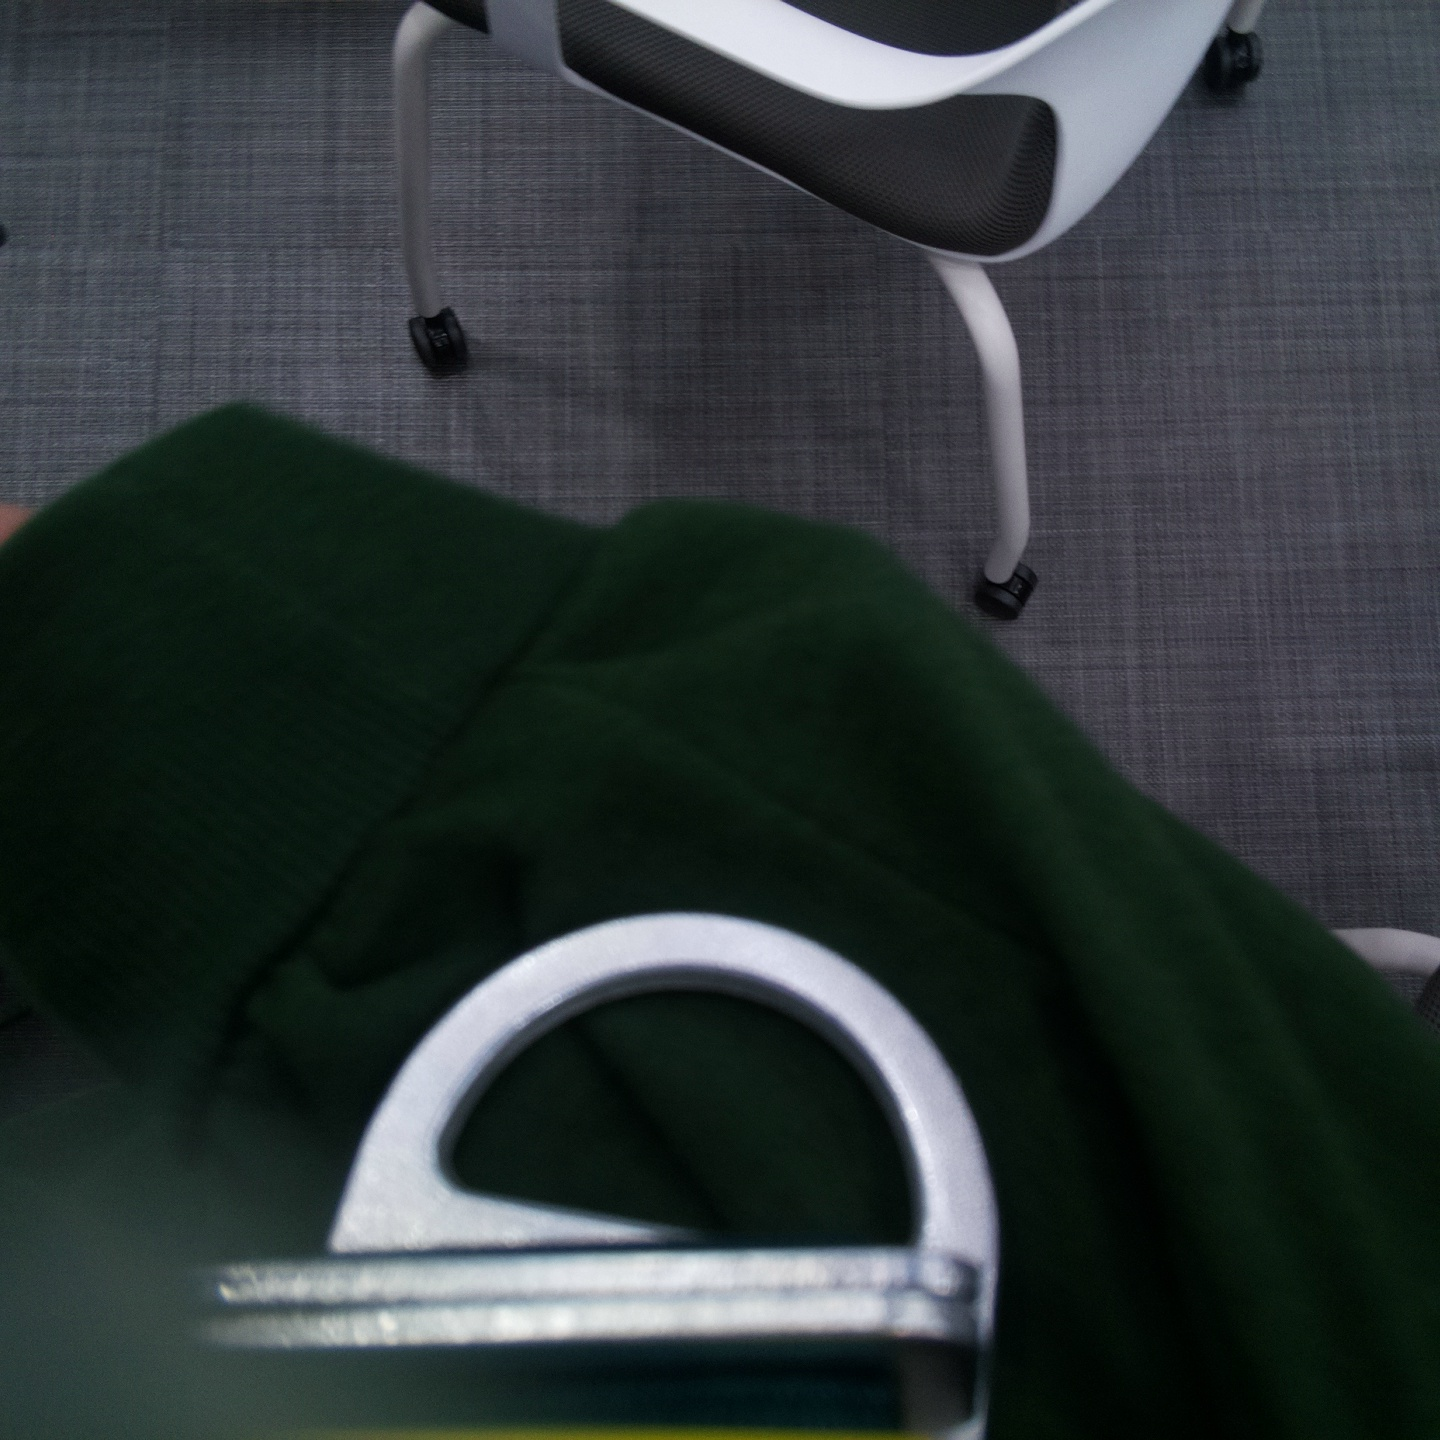UNSUCCESS: (320, 907, 1026, 1254)
